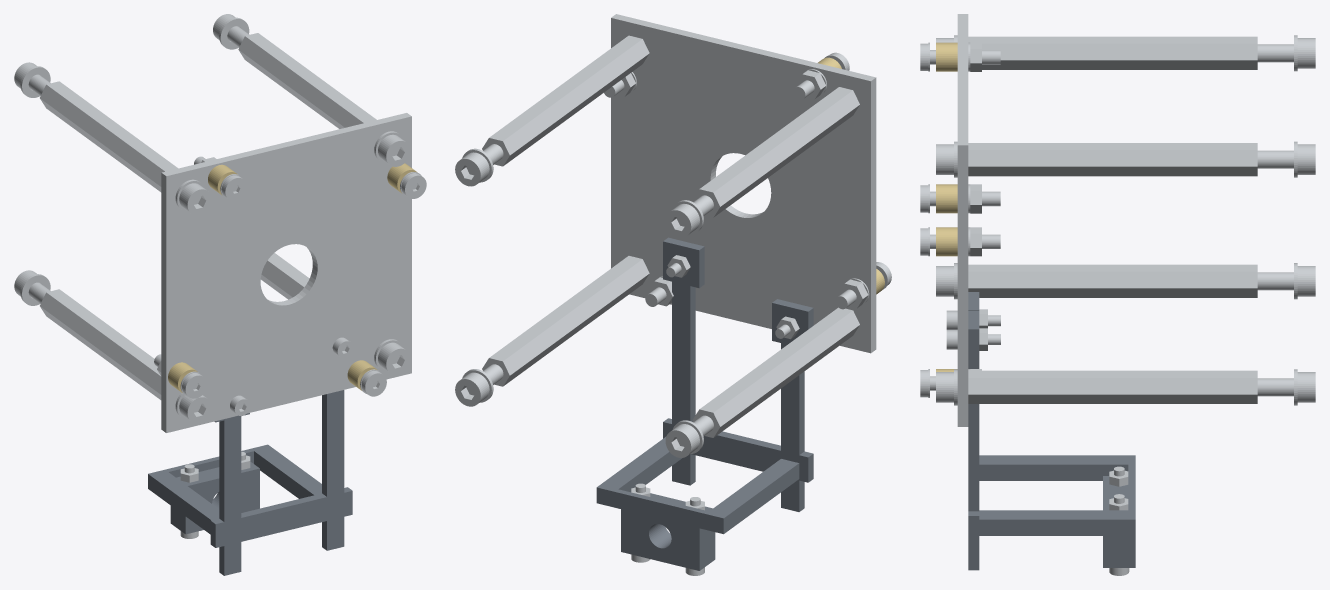
Rendered from adapter-proposal.glb.
3 views of the same model, side by side, from view 1: azimuth 30°, elevation 25°; view 2: azimuth 150°, elevation 25°; view 3: azimuth 270°, elevation 25° (orthographic). The views are drawn at different scales.
Parts seen in each view (by area): view 1: adapter_plate_PD1180_AP_B, cable_support_PD1180_CS_B, motor_support_post_M5_80_2, motor_support_post_M5_80_3, motor_support_post_M5_80_1, motor_support_post_M5_80_4, cable_clamp_cap_PD1180_CC_B, post_top_screw_M5x10_2, post_top_screw_M5x10_4, post_top_screw_M5x10_1, post_top_screw_M5x10_3, pcb_screw_M4x20_H4 (+5 smaller); view 2: adapter_plate_PD1180_AP_B, cable_support_PD1180_CS_B, motor_support_post_M5_80_4, motor_support_post_M5_80_1, motor_support_post_M5_80_2, motor_support_post_M5_80_3, cable_clamp_cap_PD1180_CC_B, post_front_screw_M5x16_1, post_front_screw_M5x16_4, post_front_screw_M5x16_2, post_front_screw_M5x16_3; view 3: cable_support_PD1180_CS_B, motor_support_post_M5_80_1, motor_support_post_M5_80_4, motor_support_post_M5_80_3, motor_support_post_M5_80_2, adapter_plate_PD1180_AP_B, post_front_screw_M5x16_1, post_front_screw_M5x16_2, post_front_screw_M5x16_3, post_front_screw_M5x16_4, cable_clamp_cap_PD1180_CC_B, pcb_spacer_311430640050_H2 (+8 smaller).
Boxes of the visible parts, x1,y1,x2,y2 form: adapter_plate_PD1180_AP_B: (161, 113, 411, 432); cable_support_PD1180_CS_B: (148, 390, 352, 575); motor_support_post_M5_80_2: (40, 81, 178, 192); motor_support_post_M5_80_3: (40, 289, 161, 399); motor_support_post_M5_80_1: (238, 33, 376, 128); motor_support_post_M5_80_4: (260, 253, 309, 299); cable_clamp_cap_PD1180_CC_B: (170, 492, 259, 534); post_top_screw_M5x10_2: (179, 183, 211, 215); post_top_screw_M5x10_4: (378, 342, 410, 374); post_top_screw_M5x10_1: (378, 134, 410, 166); post_top_screw_M5x10_3: (179, 395, 211, 423); pcb_screw_M4x20_H4: (154, 354, 207, 398); adapter_plate_PD1180_AP_B: (611, 14, 876, 353); cable_support_PD1180_CS_B: (596, 237, 813, 545); motor_support_post_M5_80_4: (482, 256, 649, 386); motor_support_post_M5_80_1: (482, 35, 649, 166); motor_support_post_M5_80_2: (692, 87, 859, 217); motor_support_post_M5_80_3: (692, 307, 859, 437); cable_clamp_cap_PD1180_CC_B: (621, 524, 715, 570); post_front_screw_M5x16_1: (455, 144, 503, 186); post_front_screw_M5x16_4: (455, 364, 503, 406); post_front_screw_M5x16_2: (665, 195, 713, 237); post_front_screw_M5x16_3: (665, 415, 713, 457); cable_support_PD1180_CS_B: (968, 292, 1135, 570); motor_support_post_M5_80_1: (968, 143, 1257, 176); motor_support_post_M5_80_4: (968, 370, 1257, 403); motor_support_post_M5_80_3: (968, 264, 1257, 297); motor_support_post_M5_80_2: (968, 36, 1257, 69); adapter_plate_PD1180_AP_B: (957, 14, 968, 426); post_front_screw_M5x16_1: (1257, 144, 1315, 174); post_front_screw_M5x16_2: (1257, 38, 1315, 68); post_front_screw_M5x16_3: (1257, 266, 1315, 296); post_front_screw_M5x16_4: (1257, 372, 1315, 402); cable_clamp_cap_PD1180_CC_B: (1103, 542, 1135, 567); pcb_spacer_311430640050_H2: (936, 184, 957, 213).
Bounding box in the file's own units: 85.9 × 146 × 109.
